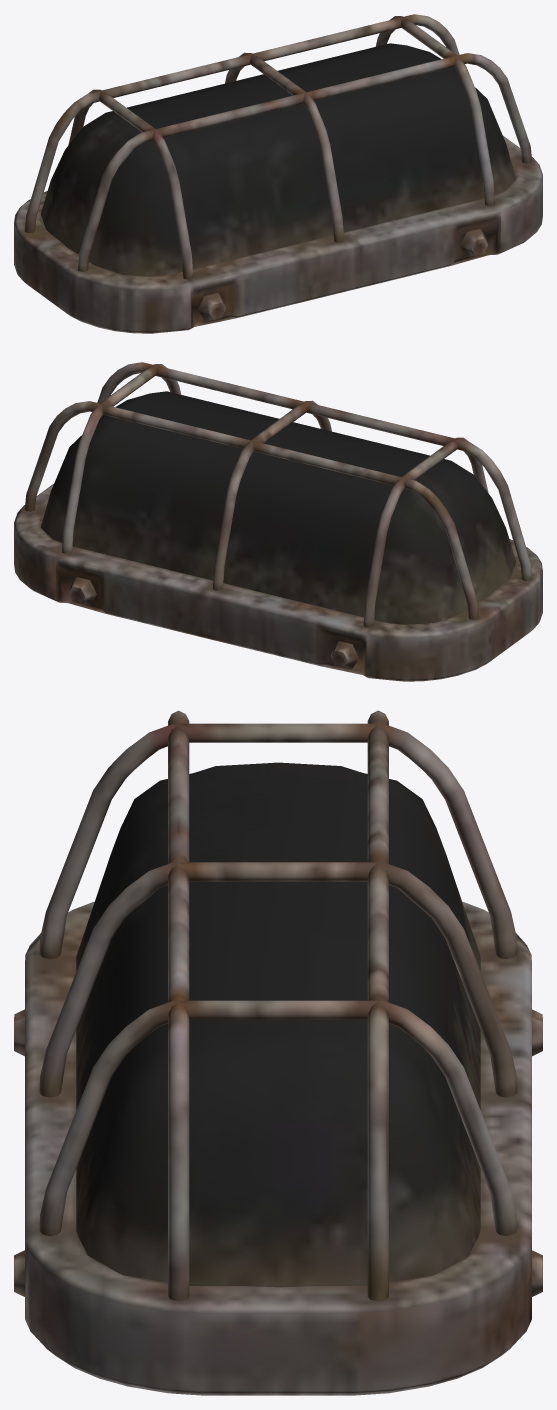
Rendered from plight.industrial.wall.lamp.on.red.glb.
The picture shows the model from 3 angles, top to bottom: view 1: azimuth 30°, elevation 25°; view 2: azimuth 150°, elevation 25°; view 3: azimuth 270°, elevation 25°; orthographic projection. The views are drawn at different scales.
Parts seen in each view (by area): view 1: mesh (plight wall); view 2: mesh (plight wall); view 3: mesh (plight wall).
Part boxes in pixels (x1,y1,x2,y2): mesh (plight wall): (14,14,542,333); mesh (plight wall): (14,362,542,681); mesh (plight wall): (14,710,542,1395).
Bounding box in the file's own units: 0.4 × 0.1405 × 0.2086.
1 material, 1 textured.
